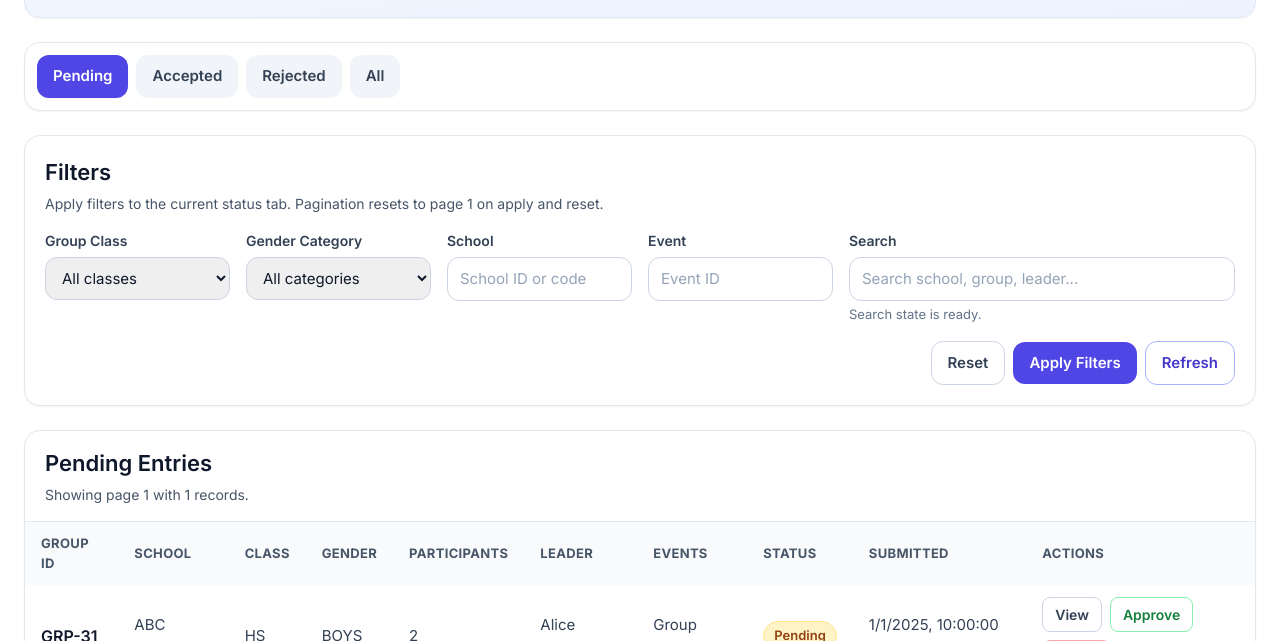
Test: SchoolGroupParticipantsAdmin member edit integration › shows inline member and field errors for PATCH 400
(page scrolled)
Click the button "View".
click(1072, 614)  # box [1042,597,1102,632]
(page scrolled)
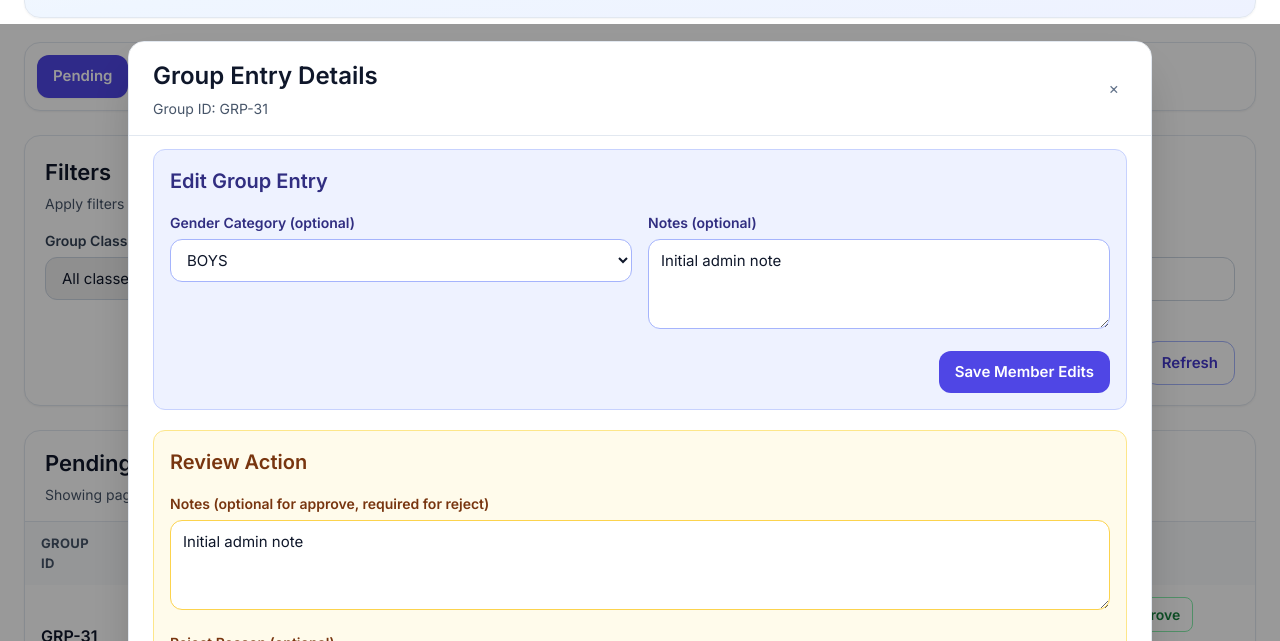
Click the button "Save Member Edits".
click(1024, 372)  # box [939,351,1110,393]
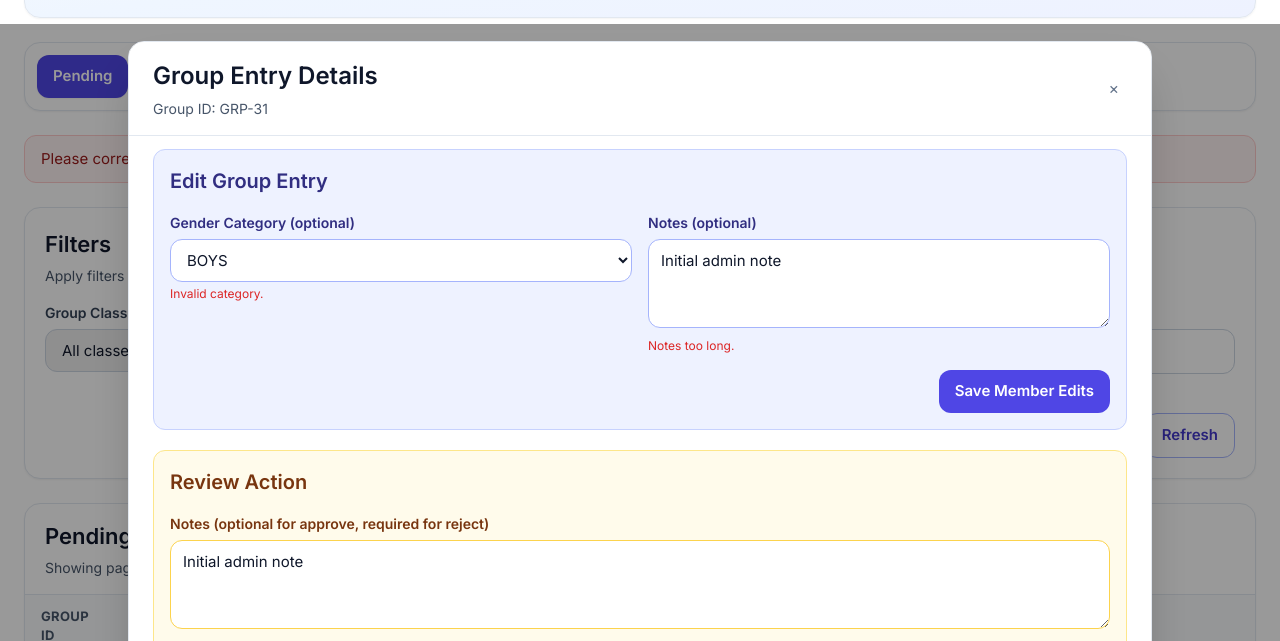
Expected: the text "Please correct the highlighted fields." is shown, [24,134,1256,183]
Expected: the text "Invalid category." is shown, [170,286,264,301]
Expected: the text "Notes too long." is shown, [648,338,734,353]
